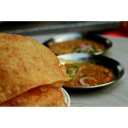poori: (1, 32, 69, 107)
